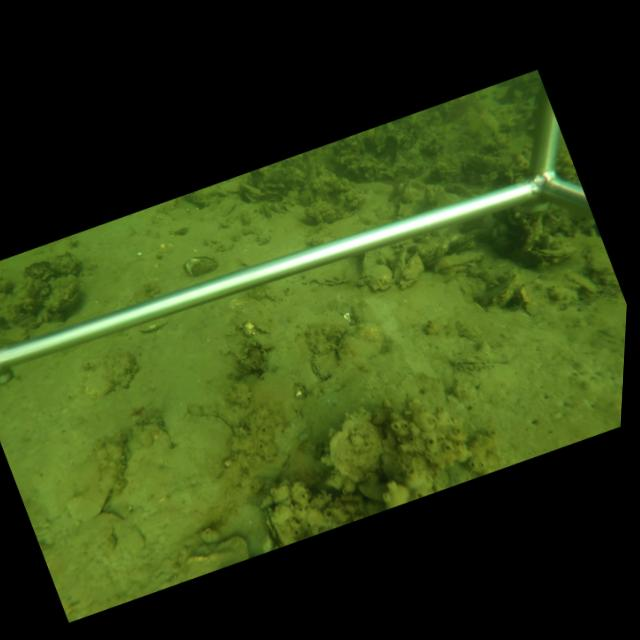Oyster-Closed: (262, 503, 297, 548), (135, 420, 177, 452), (296, 264, 351, 288), (433, 250, 486, 274), (396, 253, 424, 286), (524, 245, 579, 260), (310, 352, 338, 381), (450, 229, 479, 249), (238, 181, 263, 197), (262, 189, 284, 202), (437, 237, 449, 257), (423, 246, 436, 263), (262, 181, 288, 189)
Oyster-Indeterminate: (68, 436, 130, 527), (340, 320, 390, 365), (173, 412, 235, 448)
Oyster-Open: (181, 255, 219, 277)
